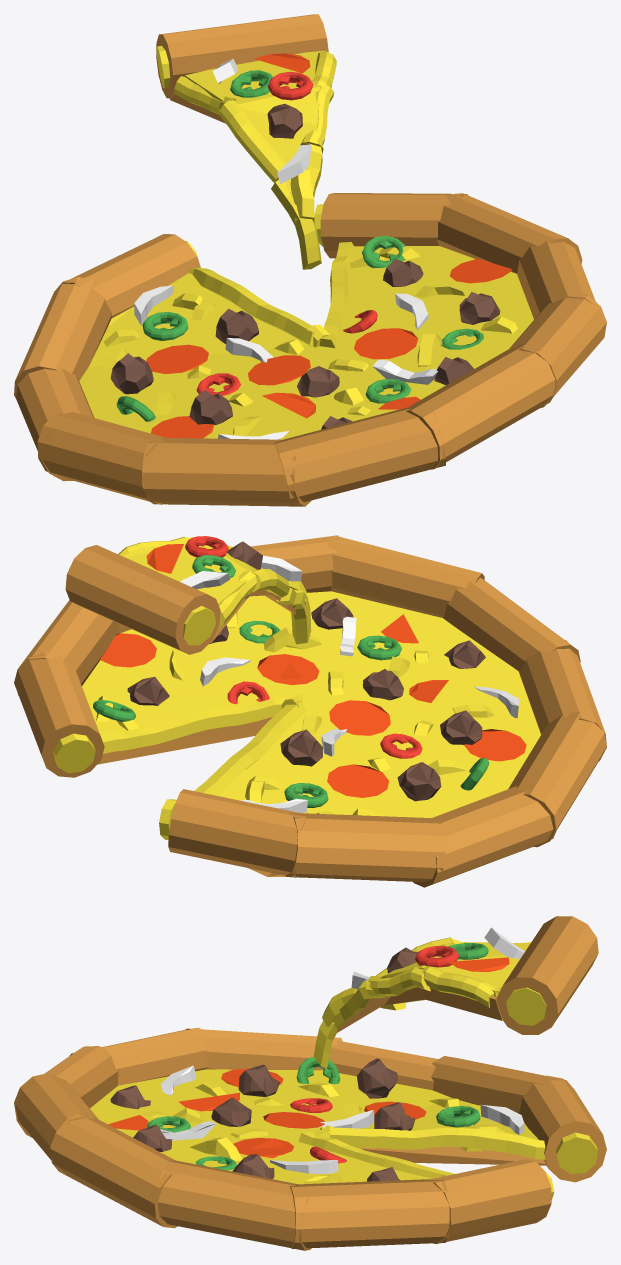
Rendered from Pizza.glb.
3 renders of one model, top to bottom at view 1: azimuth 30°, elevation 25°; view 2: azimuth 150°, elevation 25°; view 3: azimuth 270°, elevation 25°, orthographic. The views are drawn at different scales.
Parts seen in each view (by area): view 1: group2105465097, group1811405136, group208991116, group1971209806, group806392919, group266181164, group2001240031, group302675939, group1993479578, group591555689, group1838553807, group1903672182 (+23 smaller); view 2: group2105465097, group1811405136, group806392919, group208991116, group2001240031, group1993479578, group133488399, group820647303, group302675939, group1342538935, group591555689, group1903672182 (+28 smaller); view 3: group2105465097, group1811405136, group208991116, group806392919, group1508443572, group1999287418, group43721741, group591555689, group1721977863, group1838553807, group1903672182, group464044285 (+25 smaller).
Boxes of the visible parts, x1,y1,x2,y2 form: group2105465097: [14, 193, 606, 506]; group1811405136: [156, 14, 332, 195]; group208991116: [188, 268, 315, 347]; group1971209806: [219, 100, 285, 183]; group806392919: [319, 242, 354, 347]; group266181164: [271, 180, 321, 269]; group2001240031: [248, 355, 310, 385]; group302675939: [354, 328, 417, 359]; group1993479578: [146, 344, 208, 373]; group591555689: [110, 353, 153, 394]; group1838553807: [189, 390, 232, 424]; group1903672182: [215, 308, 258, 344]; group2105465097: [14, 535, 606, 887]; group1811405136: [65, 537, 296, 654]; group806392919: [100, 694, 302, 753]; group208991116: [194, 701, 307, 795]; group2001240031: [329, 700, 390, 735]; group1993479578: [327, 764, 388, 797]; group133488399: [100, 633, 156, 667]; group820647303: [464, 729, 526, 761]; group302675939: [257, 654, 319, 685]; group1342538935: [53, 733, 95, 773]; group591555689: [397, 762, 441, 801]; group1903672182: [280, 729, 322, 766]; group2105465097: [14, 1027, 606, 1250]; group1811405136: [336, 916, 598, 1034]; group208991116: [320, 1127, 545, 1159]; group806392919: [298, 1132, 454, 1178]; group1508443572: [366, 967, 499, 1008]; group1999287418: [556, 1132, 597, 1173]; group43721741: [506, 987, 546, 1025]; group591555689: [357, 1058, 397, 1098]; group1721977863: [367, 967, 430, 996]; group1838553807: [238, 1064, 279, 1096]; group1903672182: [374, 1102, 414, 1130]; group464044285: [211, 1097, 251, 1126].
Size of the model in its own units: 0.2789 by 0.1525 by 0.2809.
